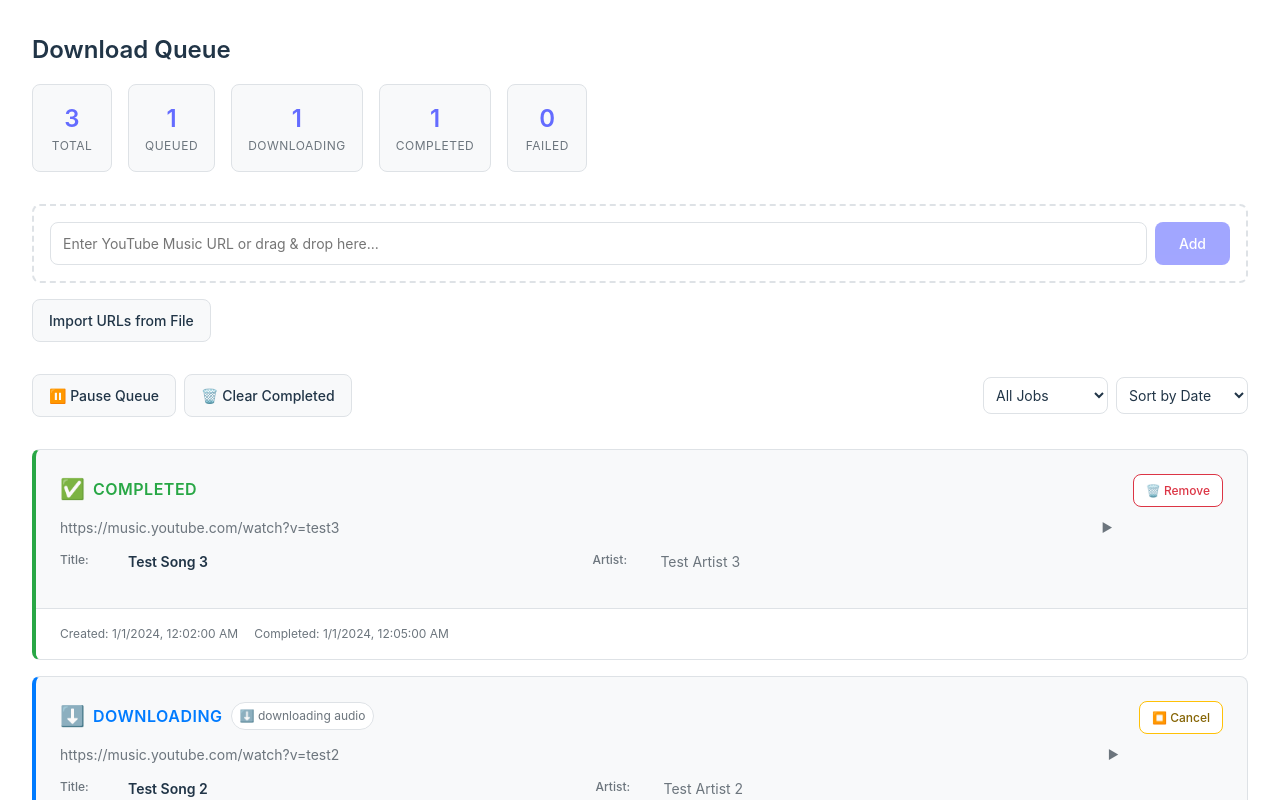
Test: QueueView Component › enables add button when URL is entered
Type "https://music.youtube.com/watch?v=test" into the field with placeholder "Enter YouTube Music URL or drag & drop here..." at (598, 244), box [50,222,1147,265]
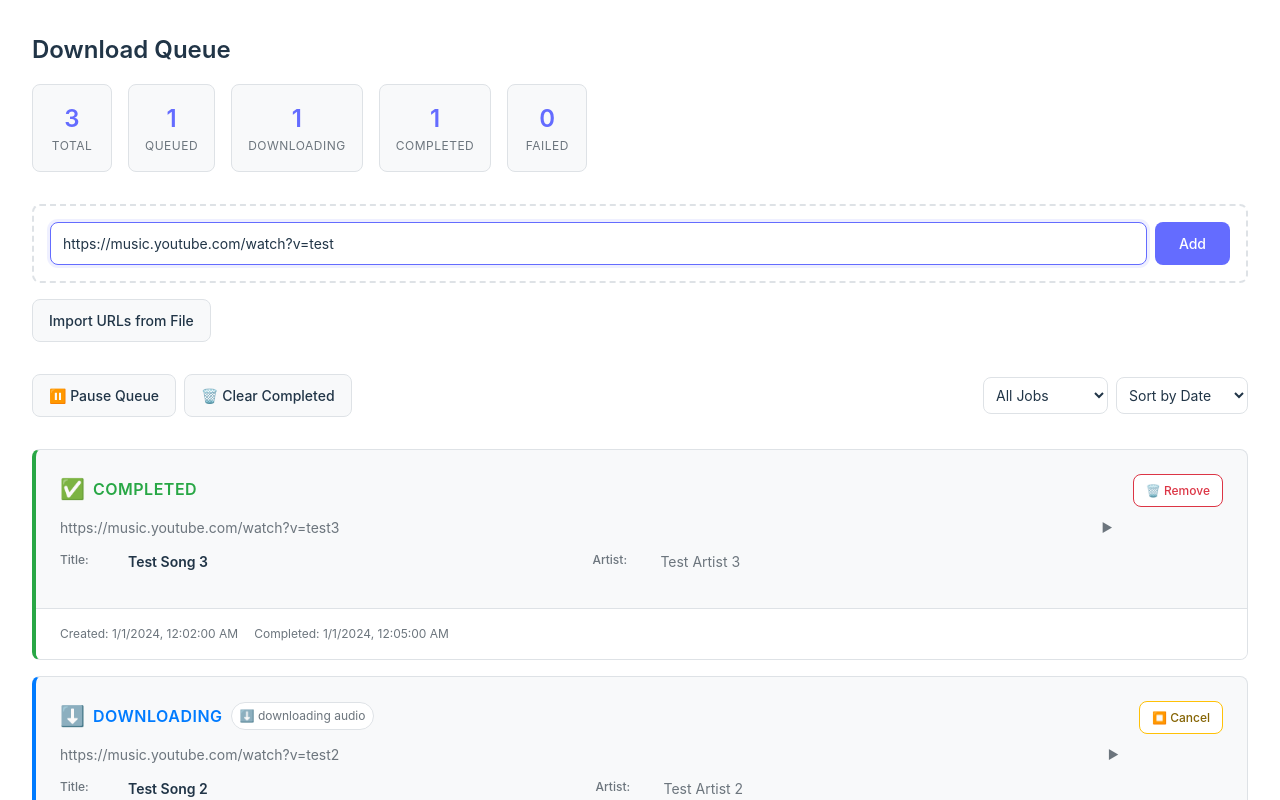
Check: the button "Add" is enabled, box [1155,222,1230,265]
